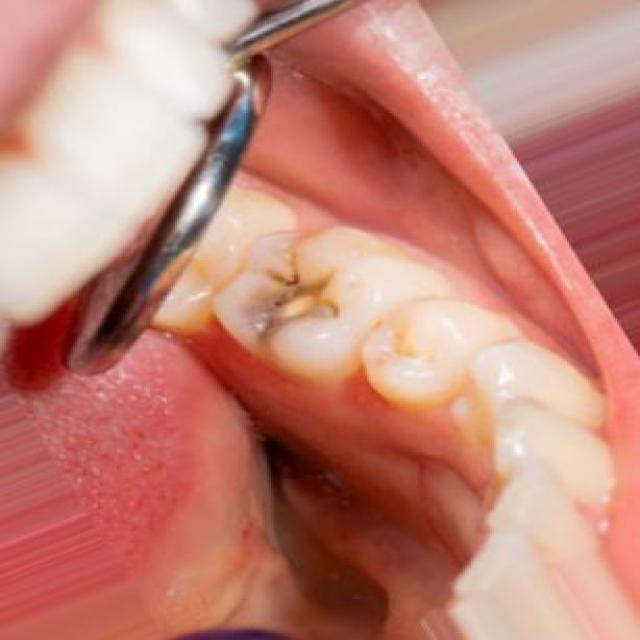caries: (216, 242, 380, 352)
